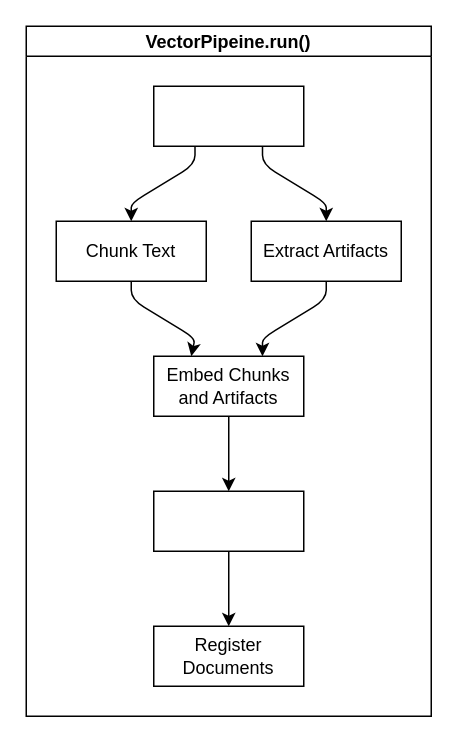
This 458x743 diagram has some shape labels left out. Each missing label, with the centre of its shape:
Convert (Docling): point 228,115
Store Embeddings: point 228,520
